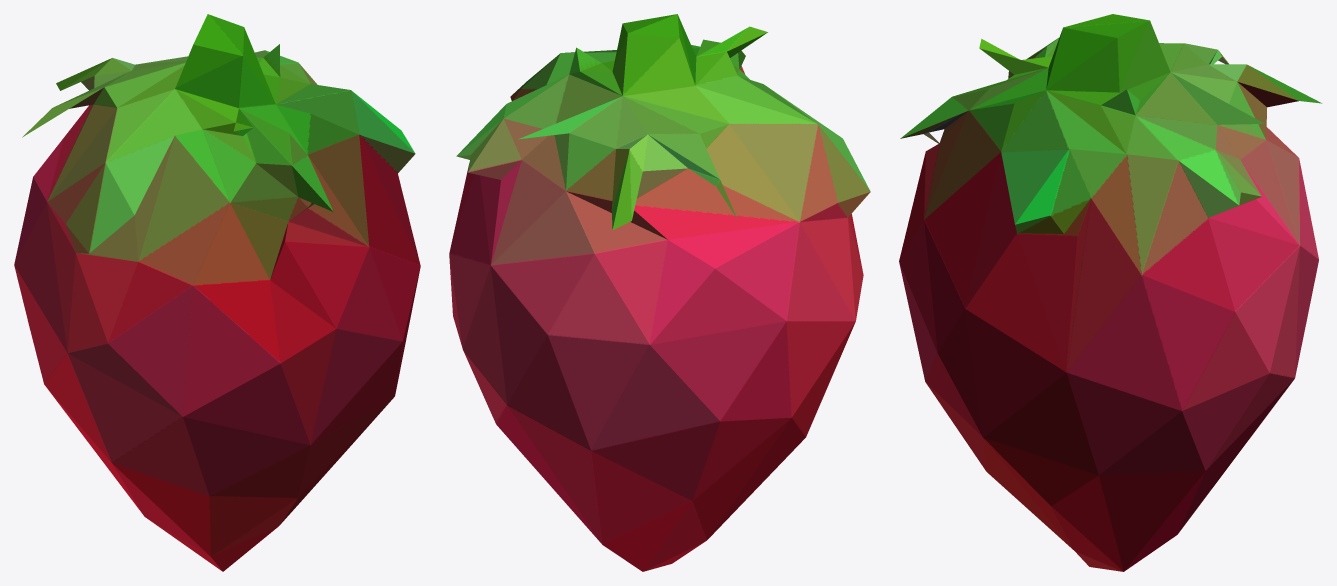
The model's file is Strawberry_0817070212_refine.fbx.
The picture shows the model from 3 angles, left to right: view 1: azimuth 30°, elevation 25°; view 2: azimuth 150°, elevation 25°; view 3: azimuth 270°, elevation 25°; orthographic projection. The views are drawn at different scales.
Parts seen in each view (by area): view 1: Mesh_0; view 2: Mesh_0; view 3: Mesh_0.
Boxes of the visible parts, bbox=[...] form: Mesh_0: bbox=[14, 14, 420, 571]; Mesh_0: bbox=[449, 14, 870, 571]; Mesh_0: bbox=[899, 14, 1322, 571].
Size of the model in its own units: 133 by 194 by 135.
1 material, 1 textured.
